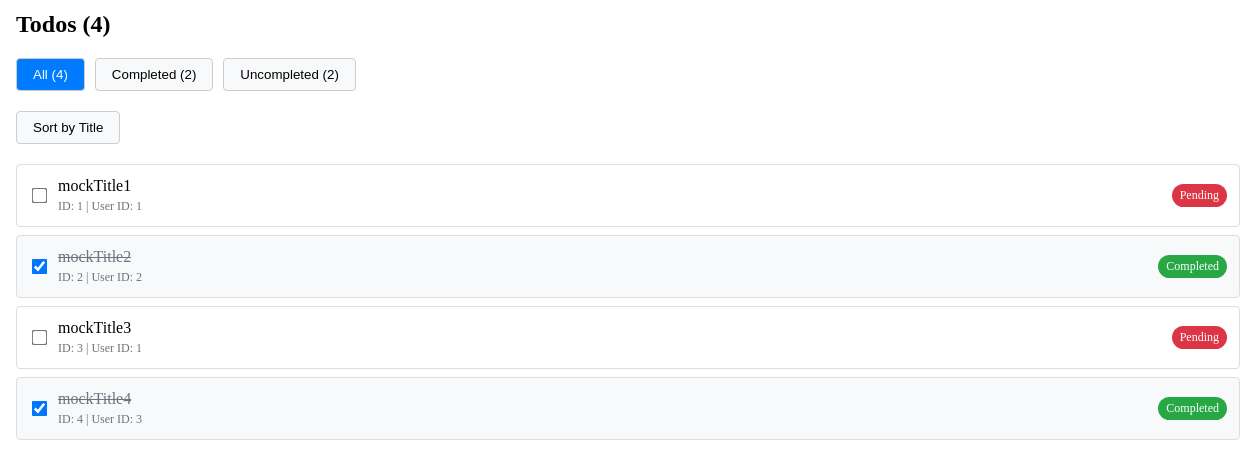
Test: Todo component Test › sort by title
Click the button "Sort by Title" at (68, 127), box [16,111,120,144]
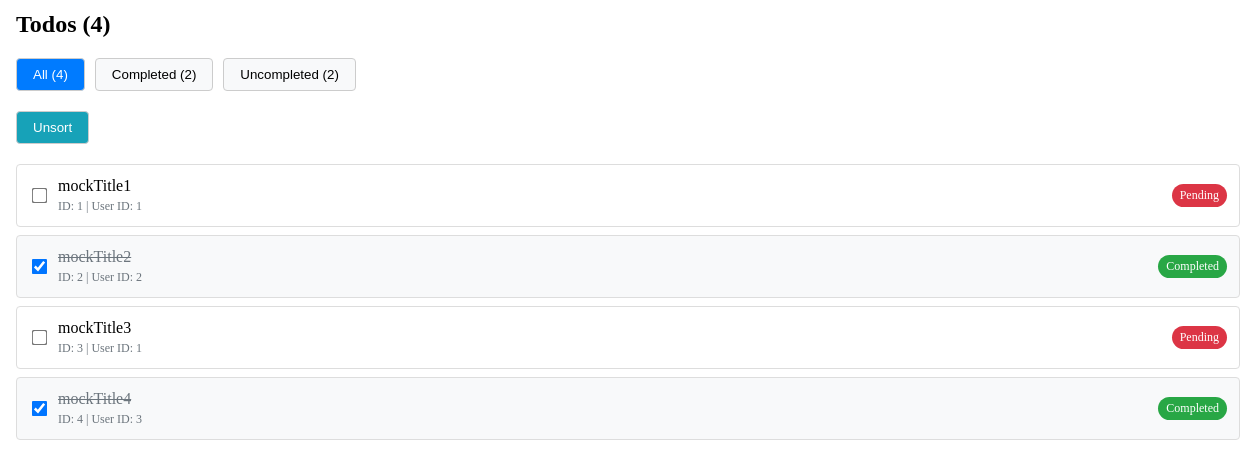
Expected: the button "Unsort" is shown
Click the button "Unsort" at (53, 127), box [16,111,89,144]
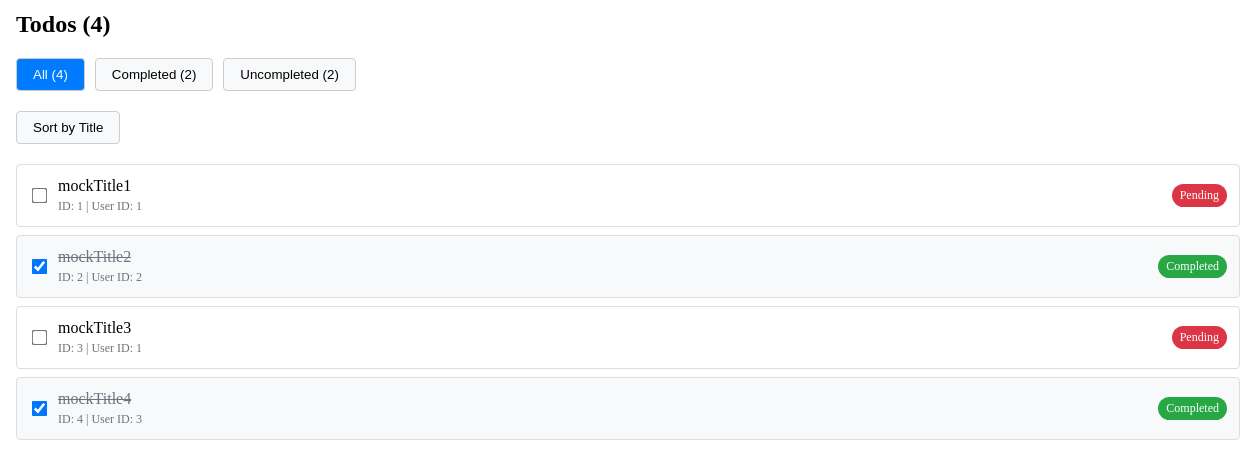
Expected: the button "Sort by Title" is shown, [16,111,120,144]
